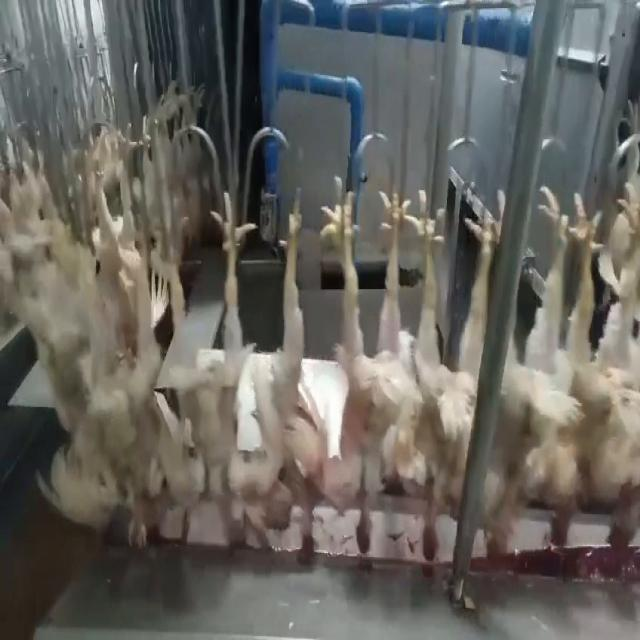chicken: (75, 210, 196, 559), (396, 185, 496, 566), (207, 185, 309, 547), (500, 162, 593, 554), (317, 176, 411, 562), (582, 142, 638, 551)
